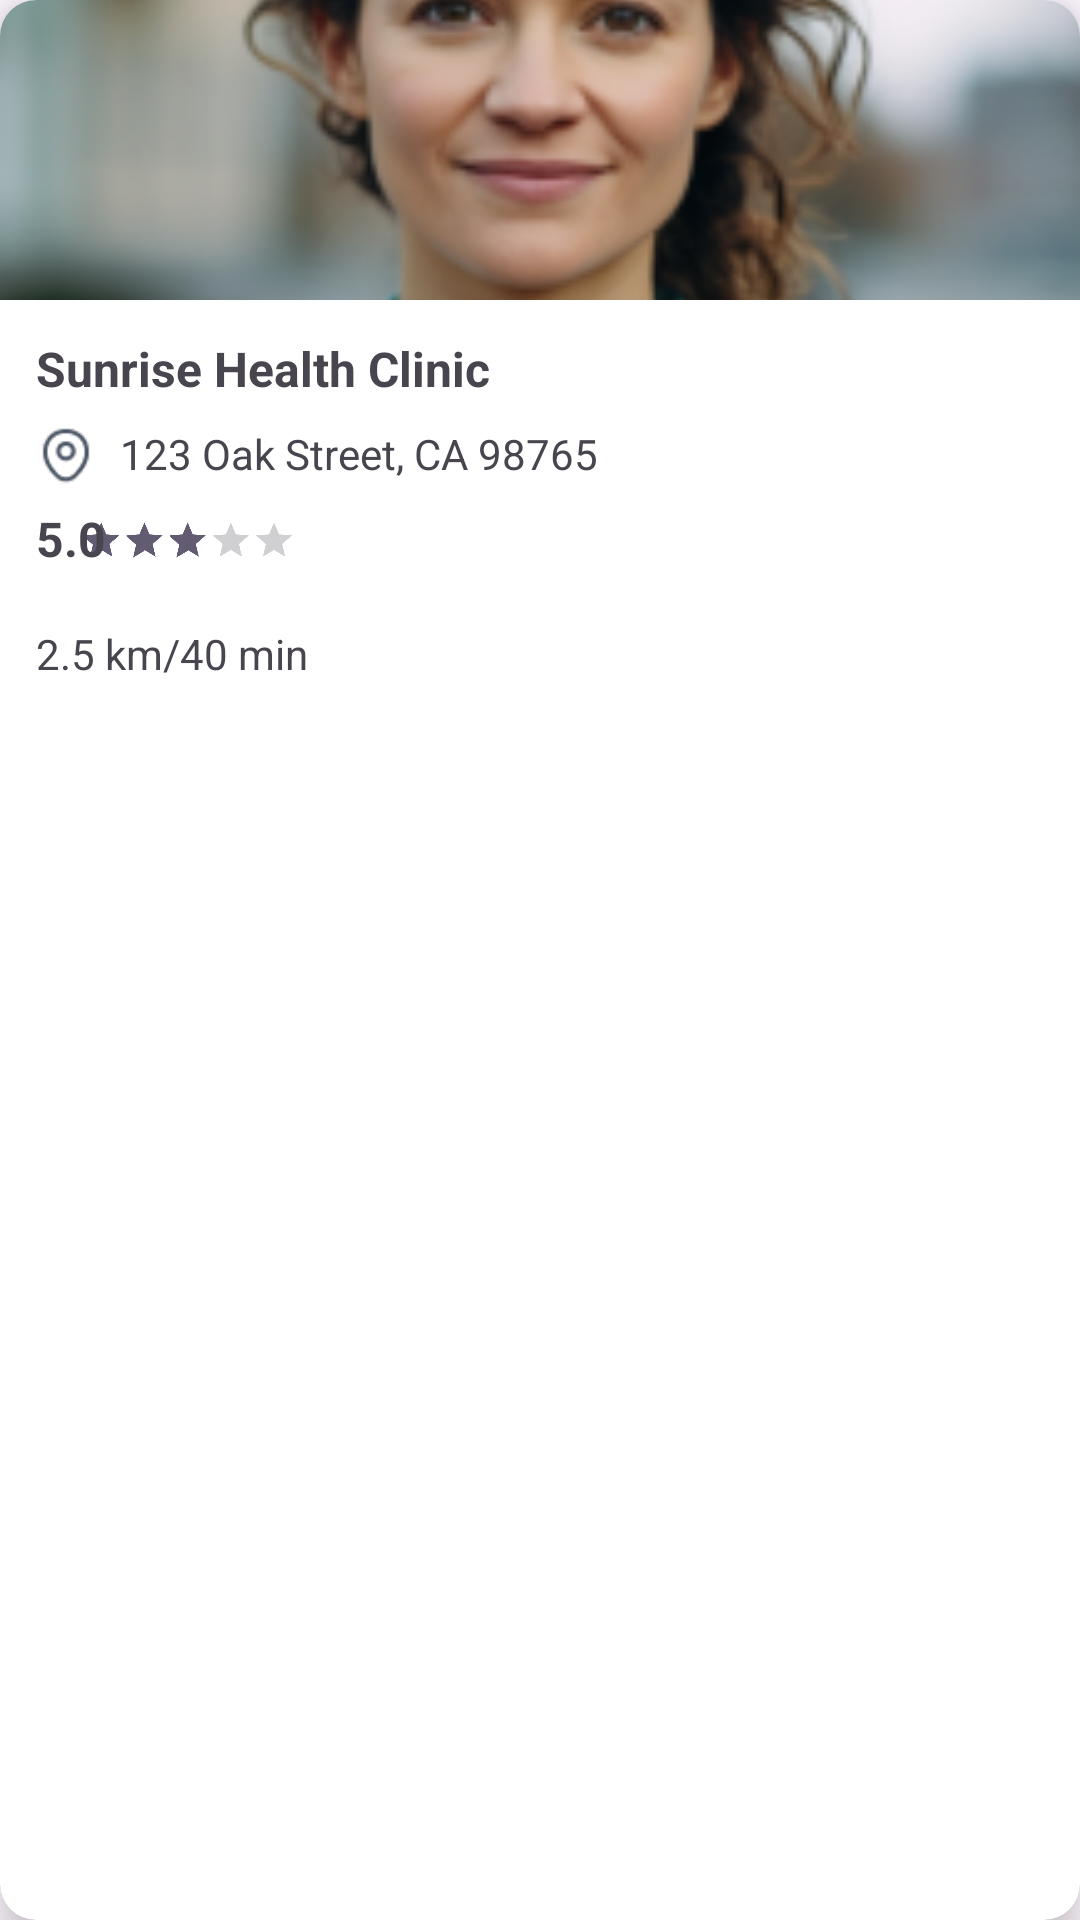

Screen size 1080 x 1920. Icon name, then its box in pixels as (x1, y1, x2, y2):
location: (42, 428, 90, 483)
